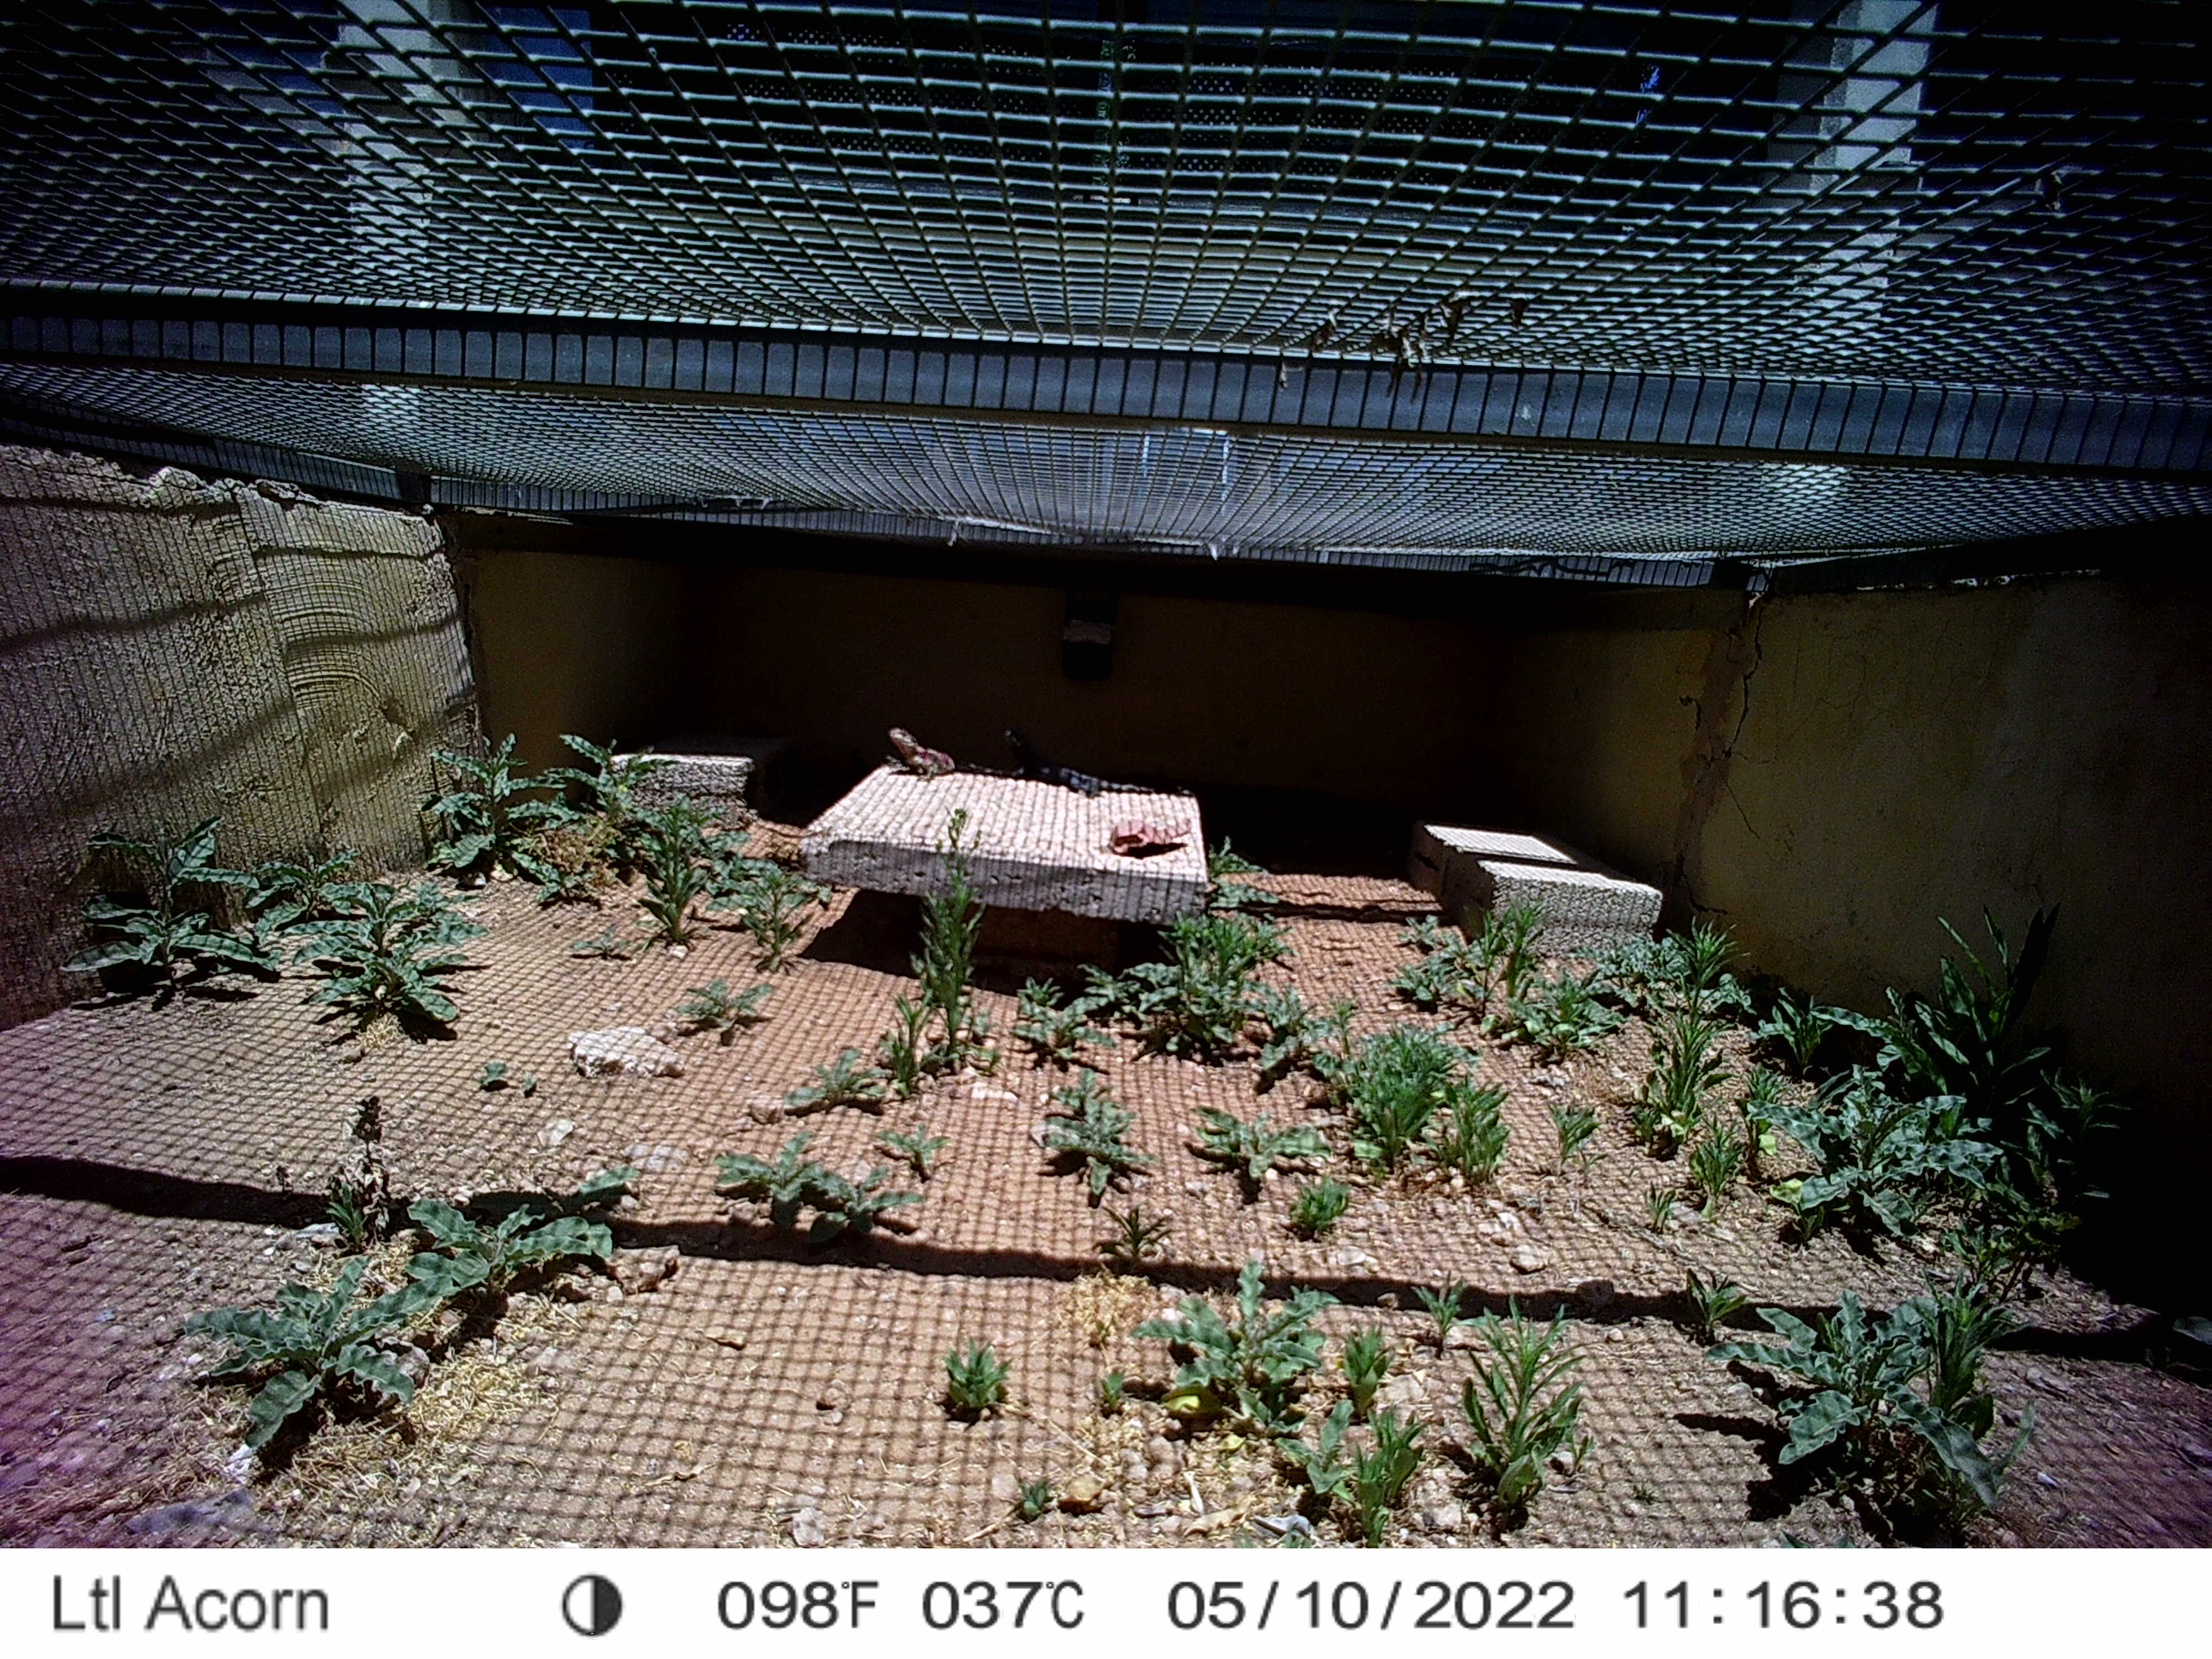lizard: (927, 54, 1103, 183), (1111, 24, 1378, 103), (986, 0, 1169, 75)
